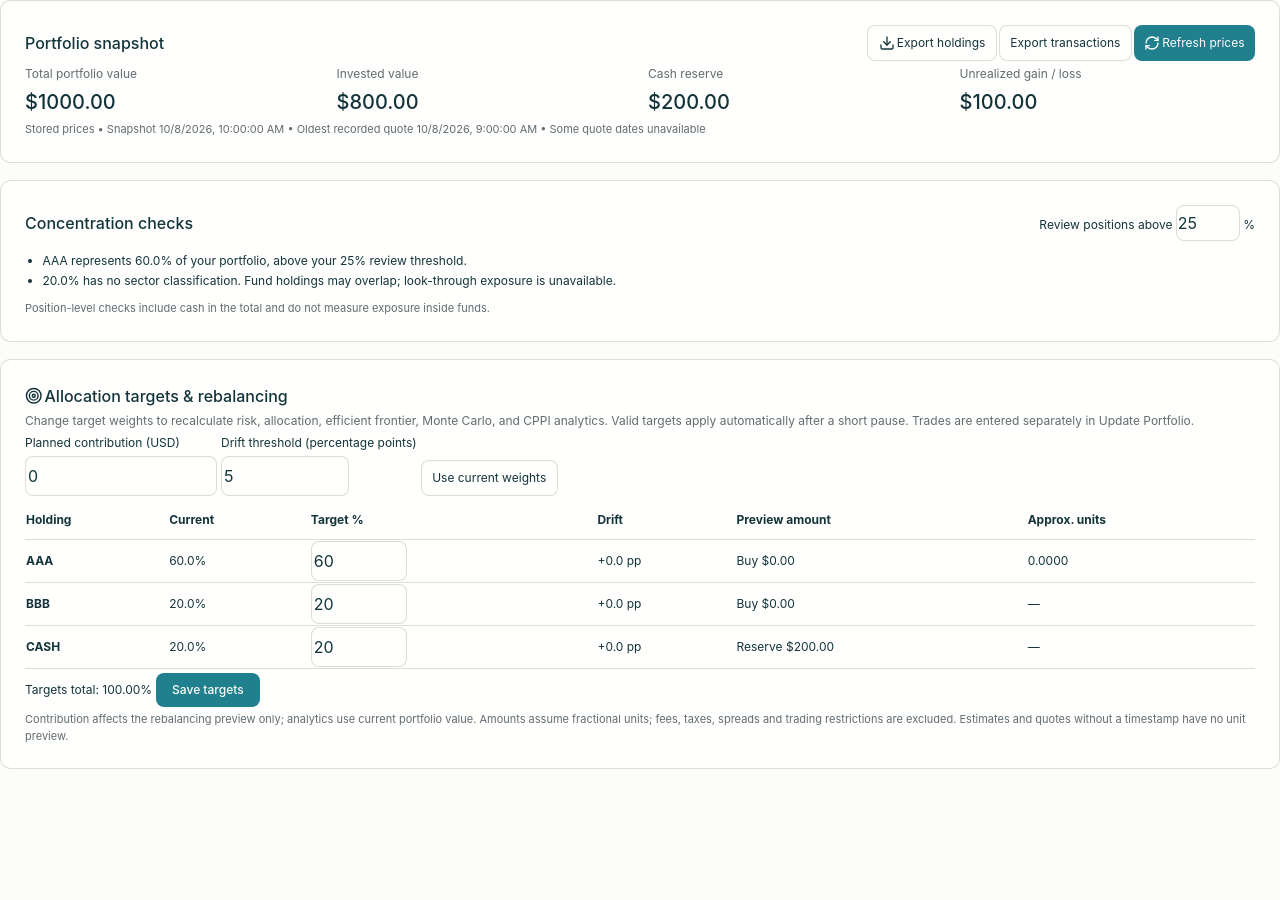
Scenario: PortfolioWorkspace › validates allocations, saves the plan, and refreshes the snapshot
The width and height of the screenshot is (1280, 900).
Replace the text in the number field named "Target allocation for AAA" with "50" at x=359, y=561, box [311,541,407,581]
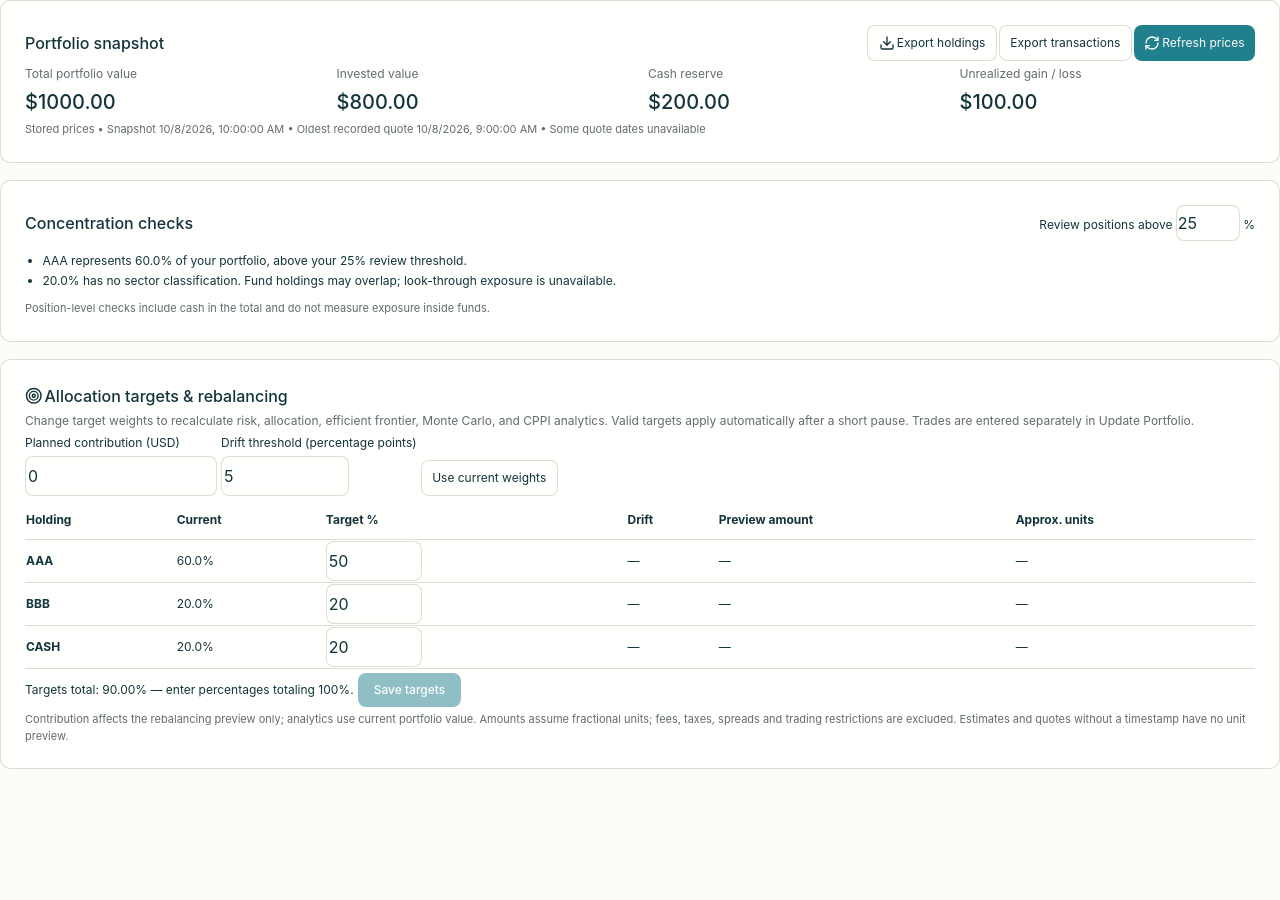
expect the button "Save targets" is disabled: met, box [358,673,461,707]
Replace the text in the number field named "Target allocation for BBB" with "30" at x=374, y=604, box [326,584,422,624]
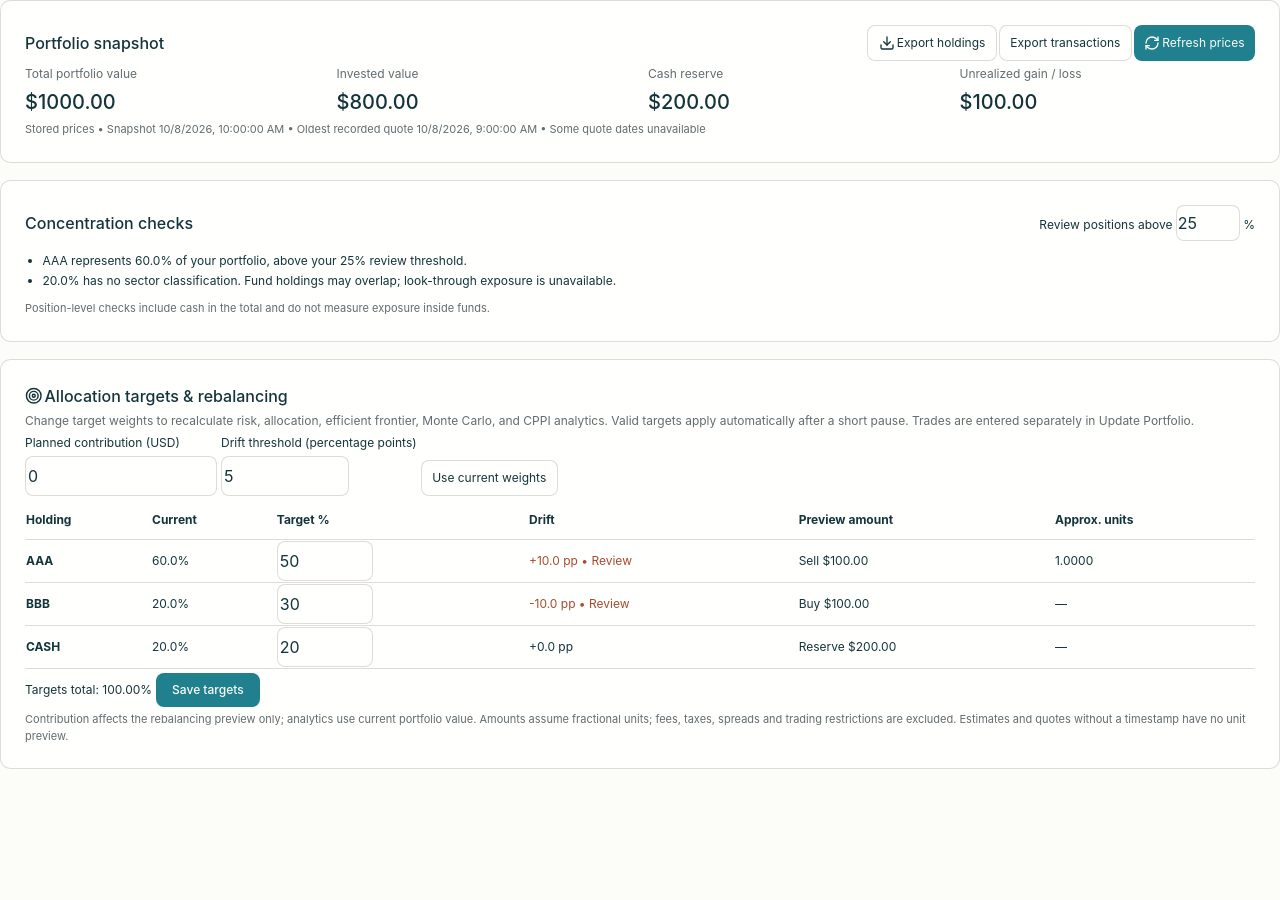
Click the button "Save targets".
click(208, 690)  # box [156,673,260,707]
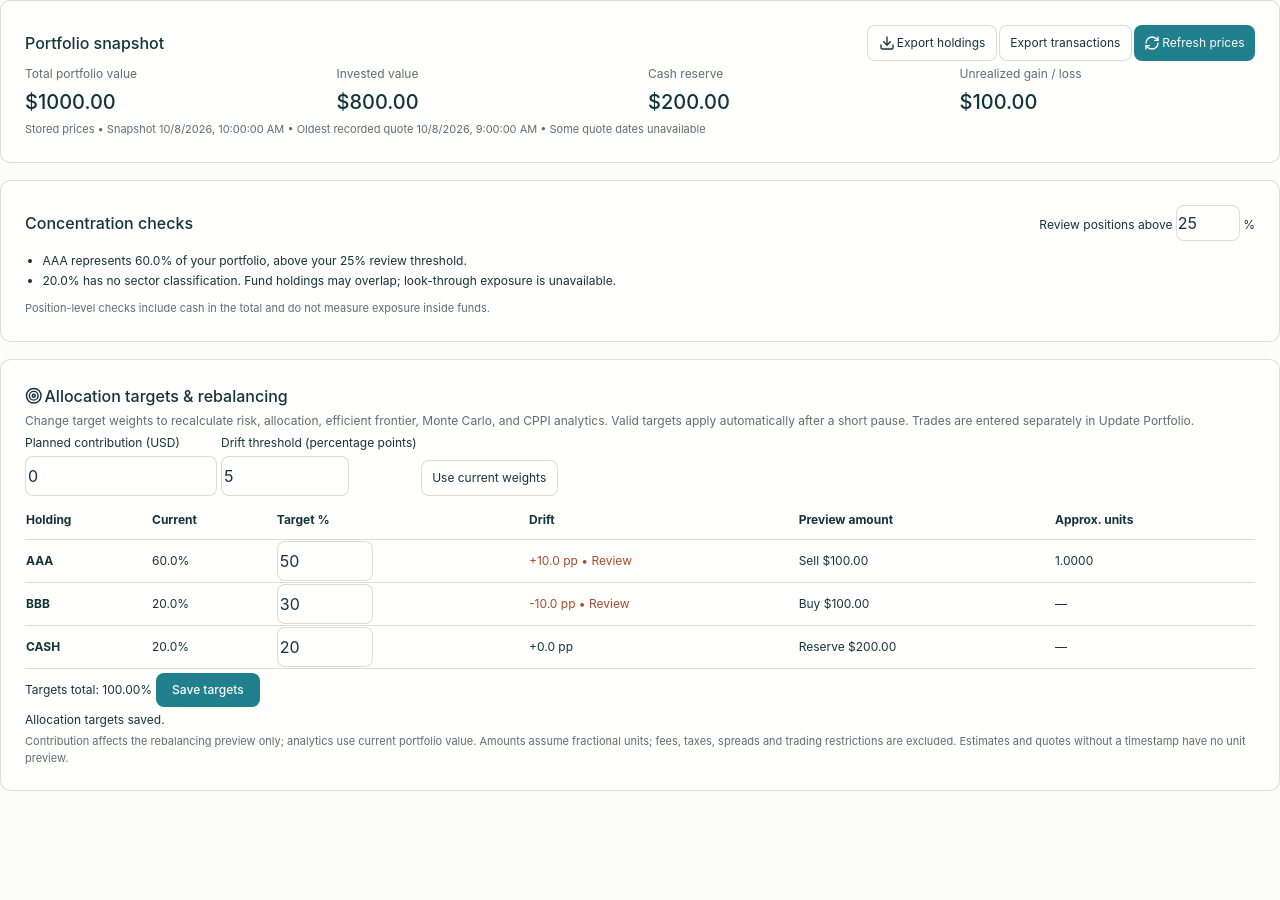
expect the text "Allocation targets saved." is shown: met, box [25,712,165,727]
